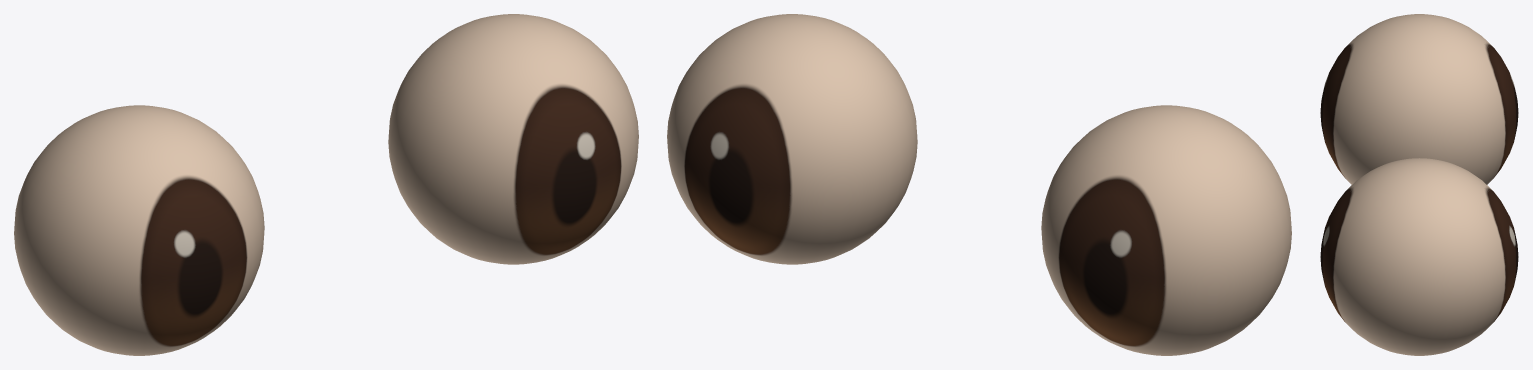
Rendered from simm_eye_e1_carrier.glb.
3 renders of one model, left to right at view 1: azimuth 30°, elevation 25°; view 2: azimuth 150°, elevation 25°; view 3: azimuth 270°, elevation 25°, orthographic. The views are drawn at different scales.
Visible parts, largest first — view 1: SCULPT_EYE_L, SCULPT_EYE_R; view 2: SCULPT_EYE_L, SCULPT_EYE_R; view 3: SCULPT_EYE_L, SCULPT_EYE_R.
Part boxes in pixels (<box>): SCULPT_EYE_L: <box>388,14,638,264</box>; SCULPT_EYE_R: <box>14,105,264,355</box>; SCULPT_EYE_L: <box>667,14,917,264</box>; SCULPT_EYE_R: <box>1041,105,1291,355</box>; SCULPT_EYE_L: <box>1320,158,1518,355</box>; SCULPT_EYE_R: <box>1320,14,1518,184</box>.
Bounding box in the file's own units: 0.196 × 0.072 × 0.072.
1 material, 1 textured.
